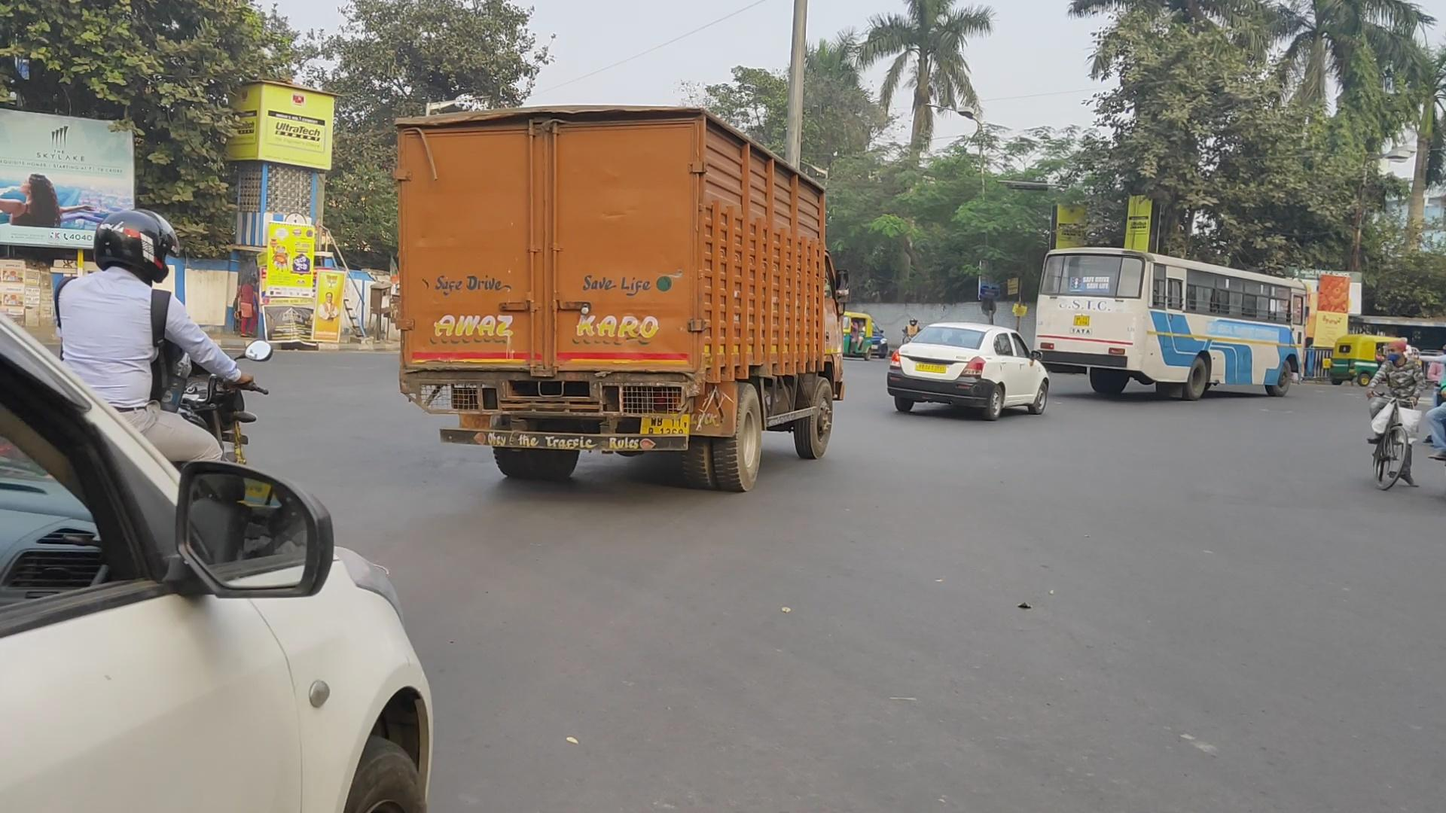Auto: (1329, 333, 1407, 388), (843, 311, 874, 362)
Bus: (1033, 246, 1310, 400)
bike: (53, 206, 274, 632), (1367, 339, 1420, 491)
car: (887, 321, 1049, 422)
truck: (389, 100, 848, 493)
